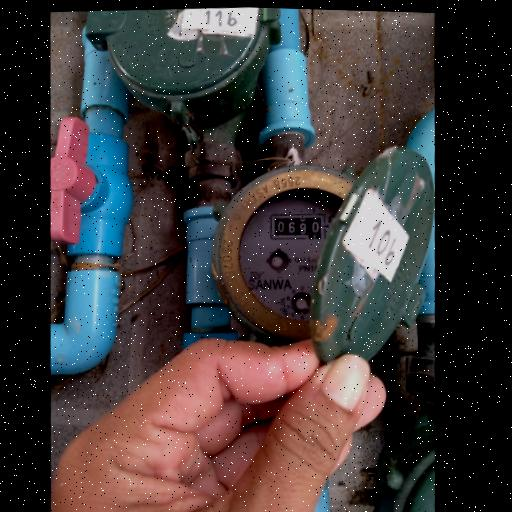0: (308, 217, 322, 239), (273, 217, 286, 236)
6: (285, 217, 299, 236)
9: (297, 217, 310, 236)
border_water_meter_number: (268, 211, 327, 242)
